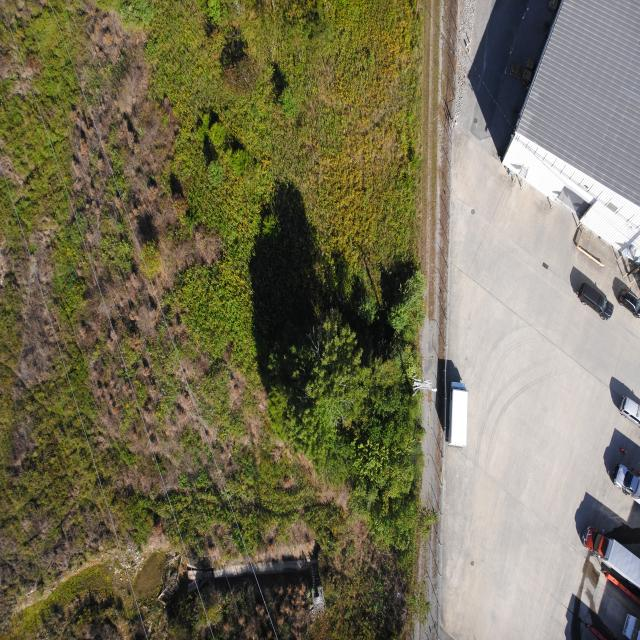Area of Interest: (273, 266, 422, 550)
